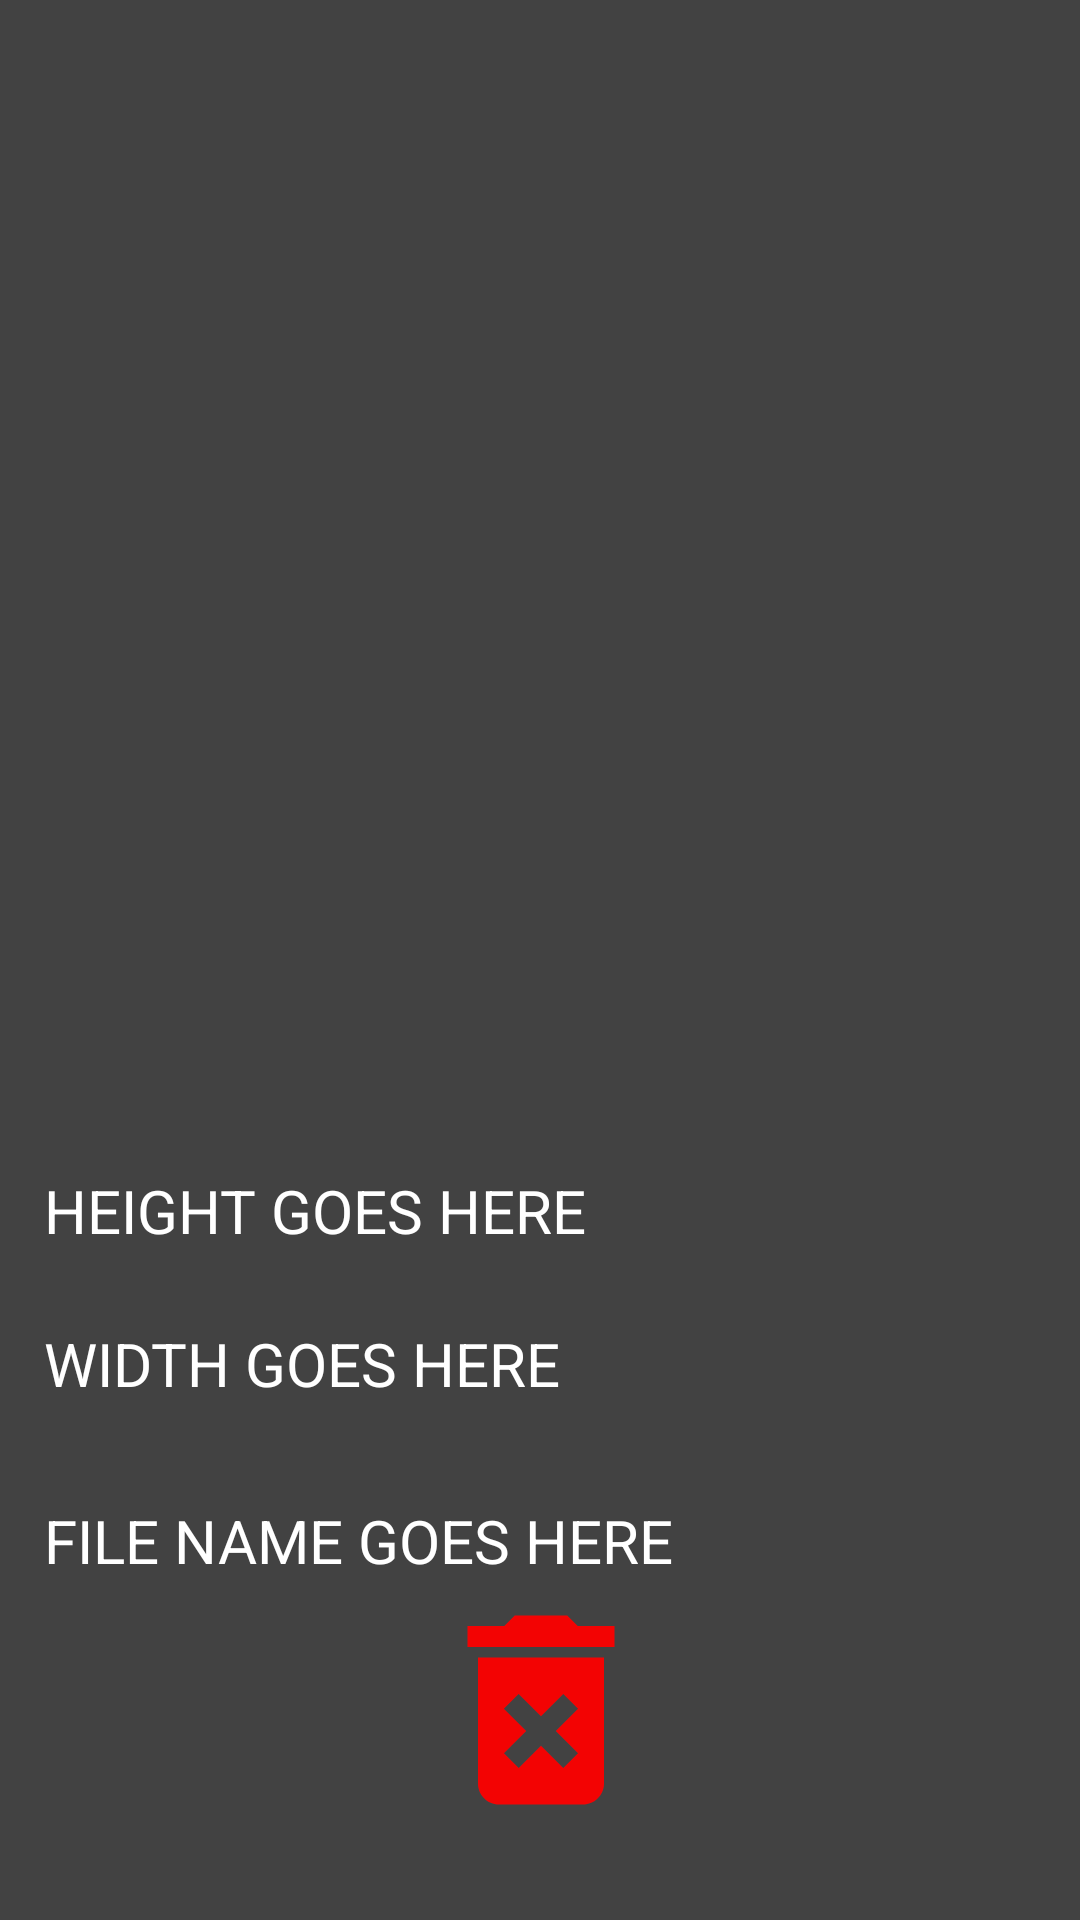

Screen size 1080px x 1920px. Icon name, then its box in pixels as (x1, y1, x2, y2):
delete: (467, 1615, 615, 1805)
